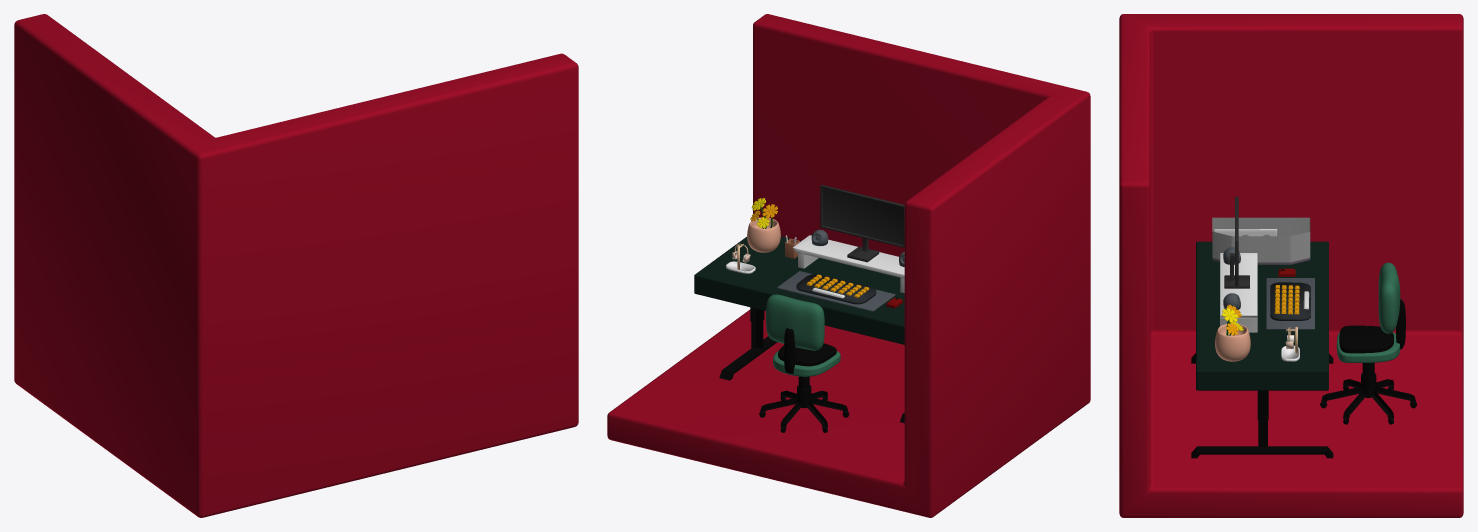
Rendered from 3droom-2.glb.
The picture shows the model from 3 angles, left to right: view 1: azimuth 30°, elevation 25°; view 2: azimuth 150°, elevation 25°; view 3: azimuth 270°, elevation 25°; orthographic projection. The views are drawn at different scales.
Parts seen in each view (by area): view 1: Cube; view 2: Cube, Cube.001, Plane.004, Cube.017, Plane.002, Cube.003, Cube.002, Plane.013, Plane.022, Plane.021, Plane.001, Plane.006; view 3: Cube, Cube.001, Plane.018, Plane.002, Plane.001, Cube.017, Plane.022, Cube.002, Cube.003, Plane.013, Plane.021, Plane.006 (+4 smaller).
Boxes of the visible parts, left/top/right/bottom form: Cube: left=14, top=14, right=578, bottom=517; Cube: left=607, top=14, right=1090, bottom=517; Cube.001: left=694, top=236, right=904, bottom=344; Plane.004: left=820, top=185, right=904, bottom=247; Cube.017: left=766, top=294, right=824, bottom=350; Plane.002: left=793, top=235, right=904, bottom=292; Cube.003: left=796, top=274, right=876, bottom=304; Cube.002: left=777, top=271, right=895, bottom=311; Plane.013: left=747, top=217, right=780, bottom=252; Plane.022: left=778, top=343, right=836, bottom=366; Plane.021: left=773, top=350, right=840, bottom=376; Plane.001: left=719, top=336, right=904, bottom=423; Plane.006: left=806, top=274, right=869, bottom=297; Cube: left=1119, top=14, right=1463, bottom=517; Cube.001: left=1196, top=241, right=1328, bottom=390; Plane.018: left=1212, top=217, right=1310, bottom=262; Plane.002: left=1220, top=253, right=1257, bottom=332; Plane.001: left=1191, top=353, right=1333, bottom=458; Cube.017: left=1378, top=262, right=1400, bottom=333; Plane.022: left=1339, top=325, right=1393, bottom=353; Cube.002: left=1266, top=278, right=1314, bottom=329; Cube.003: left=1270, top=282, right=1310, bottom=320; Plane.013: left=1215, top=324, right=1250, bottom=361; Plane.021: left=1336, top=332, right=1400, bottom=362; Plane.006: left=1274, top=285, right=1299, bottom=314.
Bounding box in the file's own units: 6.4 × 5.84 × 5.42.
